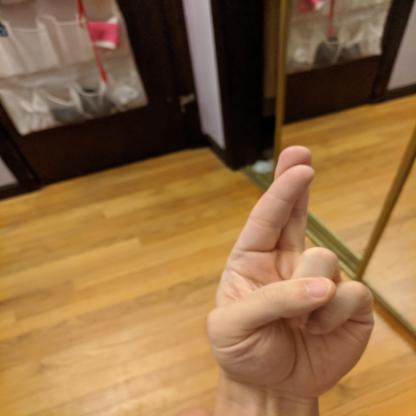R: (199, 141, 380, 402)
